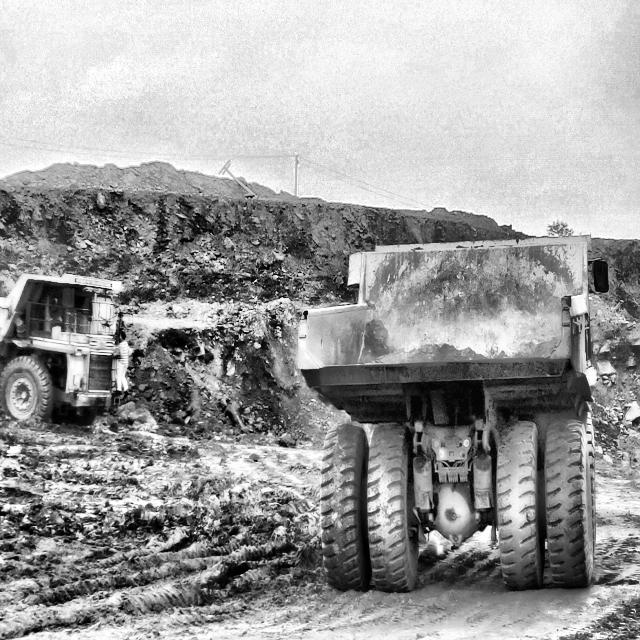dump_truck: (279, 230, 612, 584), (0, 252, 139, 435)
